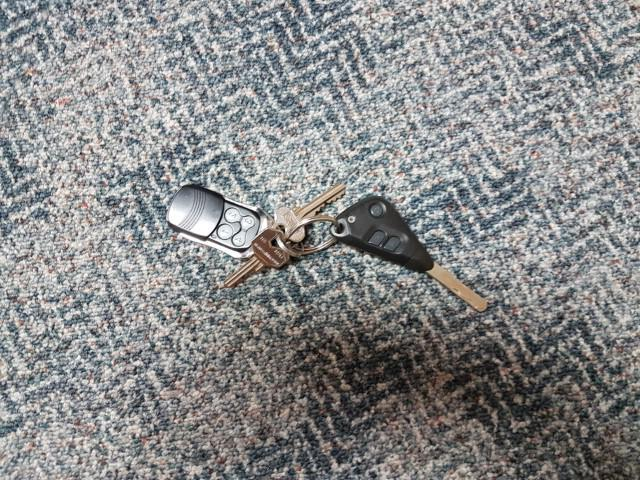key: (334, 196, 488, 310)
